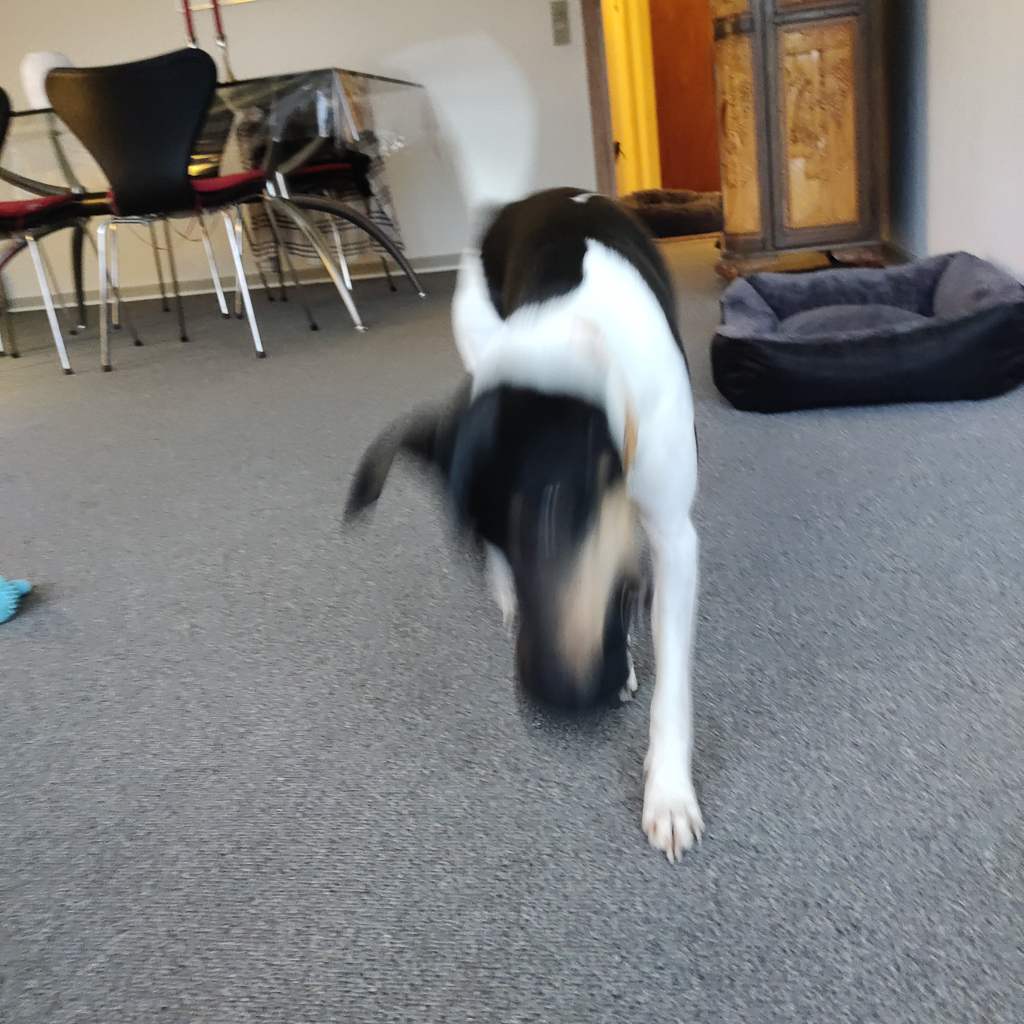Dog: (315, 21, 760, 903)
